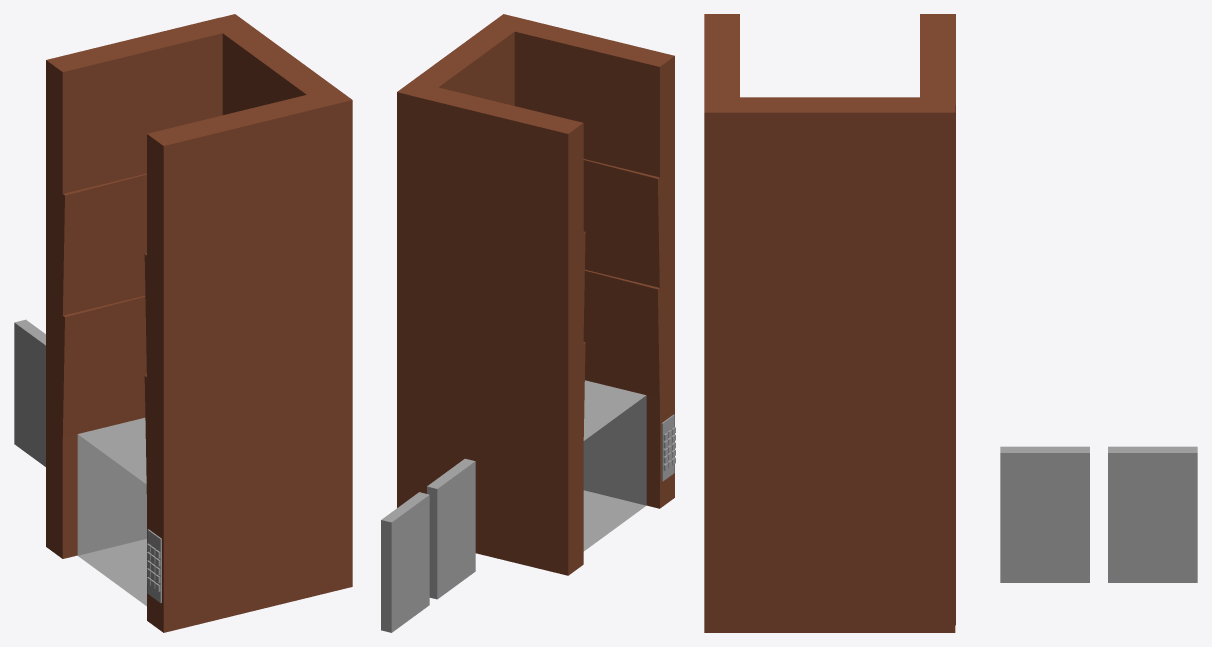
Rendered from elevatordoors.fbx.
3 views of the same model, side by side, from view 1: azimuth 30°, elevation 25°; view 2: azimuth 150°, elevation 25°; view 3: azimuth 270°, elevation 25° (orthographic). The views are drawn at different scales.
Parts seen in each view (by area): view 1: Cube.004, Cube.002, Cube.001, Cube.046; view 2: Cube.004, Cube.002, Cube.001, Cube, Cube.046; view 3: Cube.004, Cube, Cube.001.
Boxes of the visible parts, box(x1,y1,x2,y2) form: Cube.004: box(46, 14, 352, 632); Cube.002: box(77, 417, 146, 606); Cube.001: box(14, 319, 45, 466); Cube.046: box(147, 529, 161, 602); Cube.004: box(397, 14, 674, 575); Cube.002: box(583, 380, 646, 551); Cube.001: box(381, 492, 429, 632); Cube: box(427, 458, 475, 599); Cube.046: box(661, 414, 674, 481); Cube.004: box(704, 14, 955, 632); Cube: box(1000, 446, 1089, 582); Cube.001: box(1108, 446, 1197, 582).
Size of the model in its own units: 660 by 1600 by 1375.
